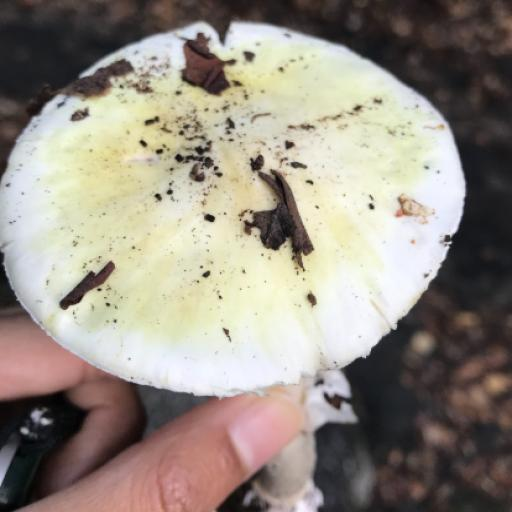mushroom: (0, 0, 495, 451)
